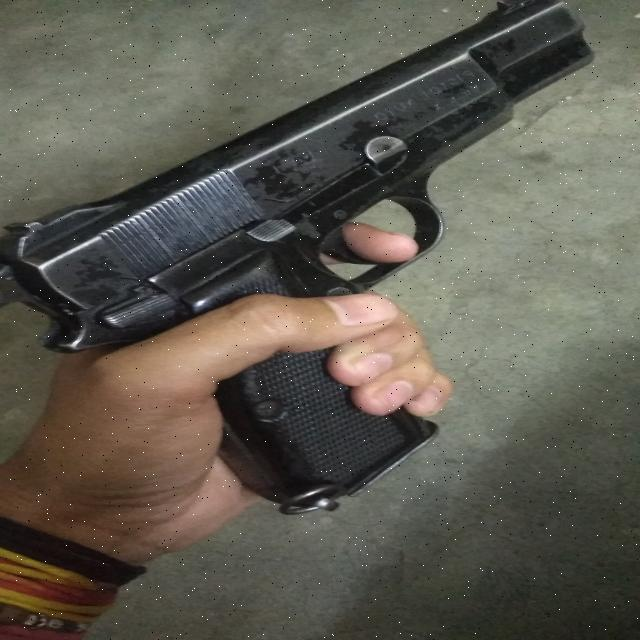gun: (7, 0, 611, 518)
